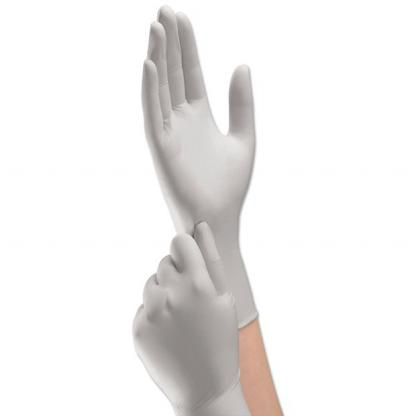with_gloves: (134, 8, 296, 332), (118, 223, 272, 416)
